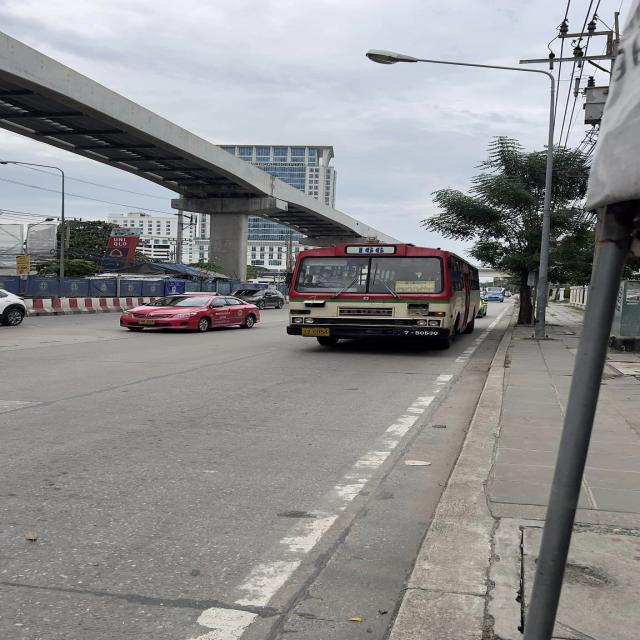BMTA-bus: (285, 239, 484, 351)
Bus-Line-Number: (346, 247, 396, 254)
Destination-Sign-Normal-Expressway: (396, 281, 434, 293)
